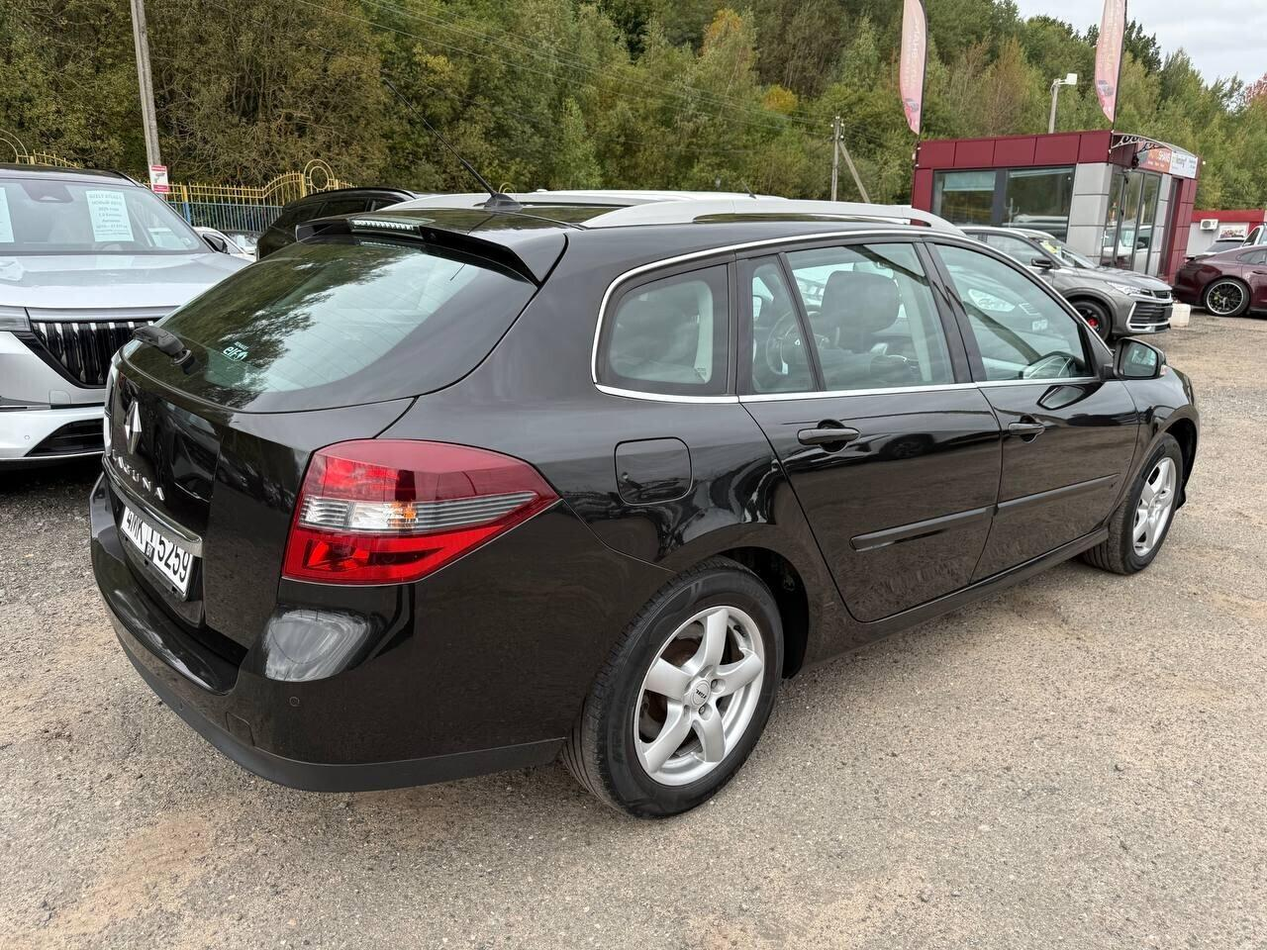Laguna_2010-2015: (75, 176, 1218, 824)
